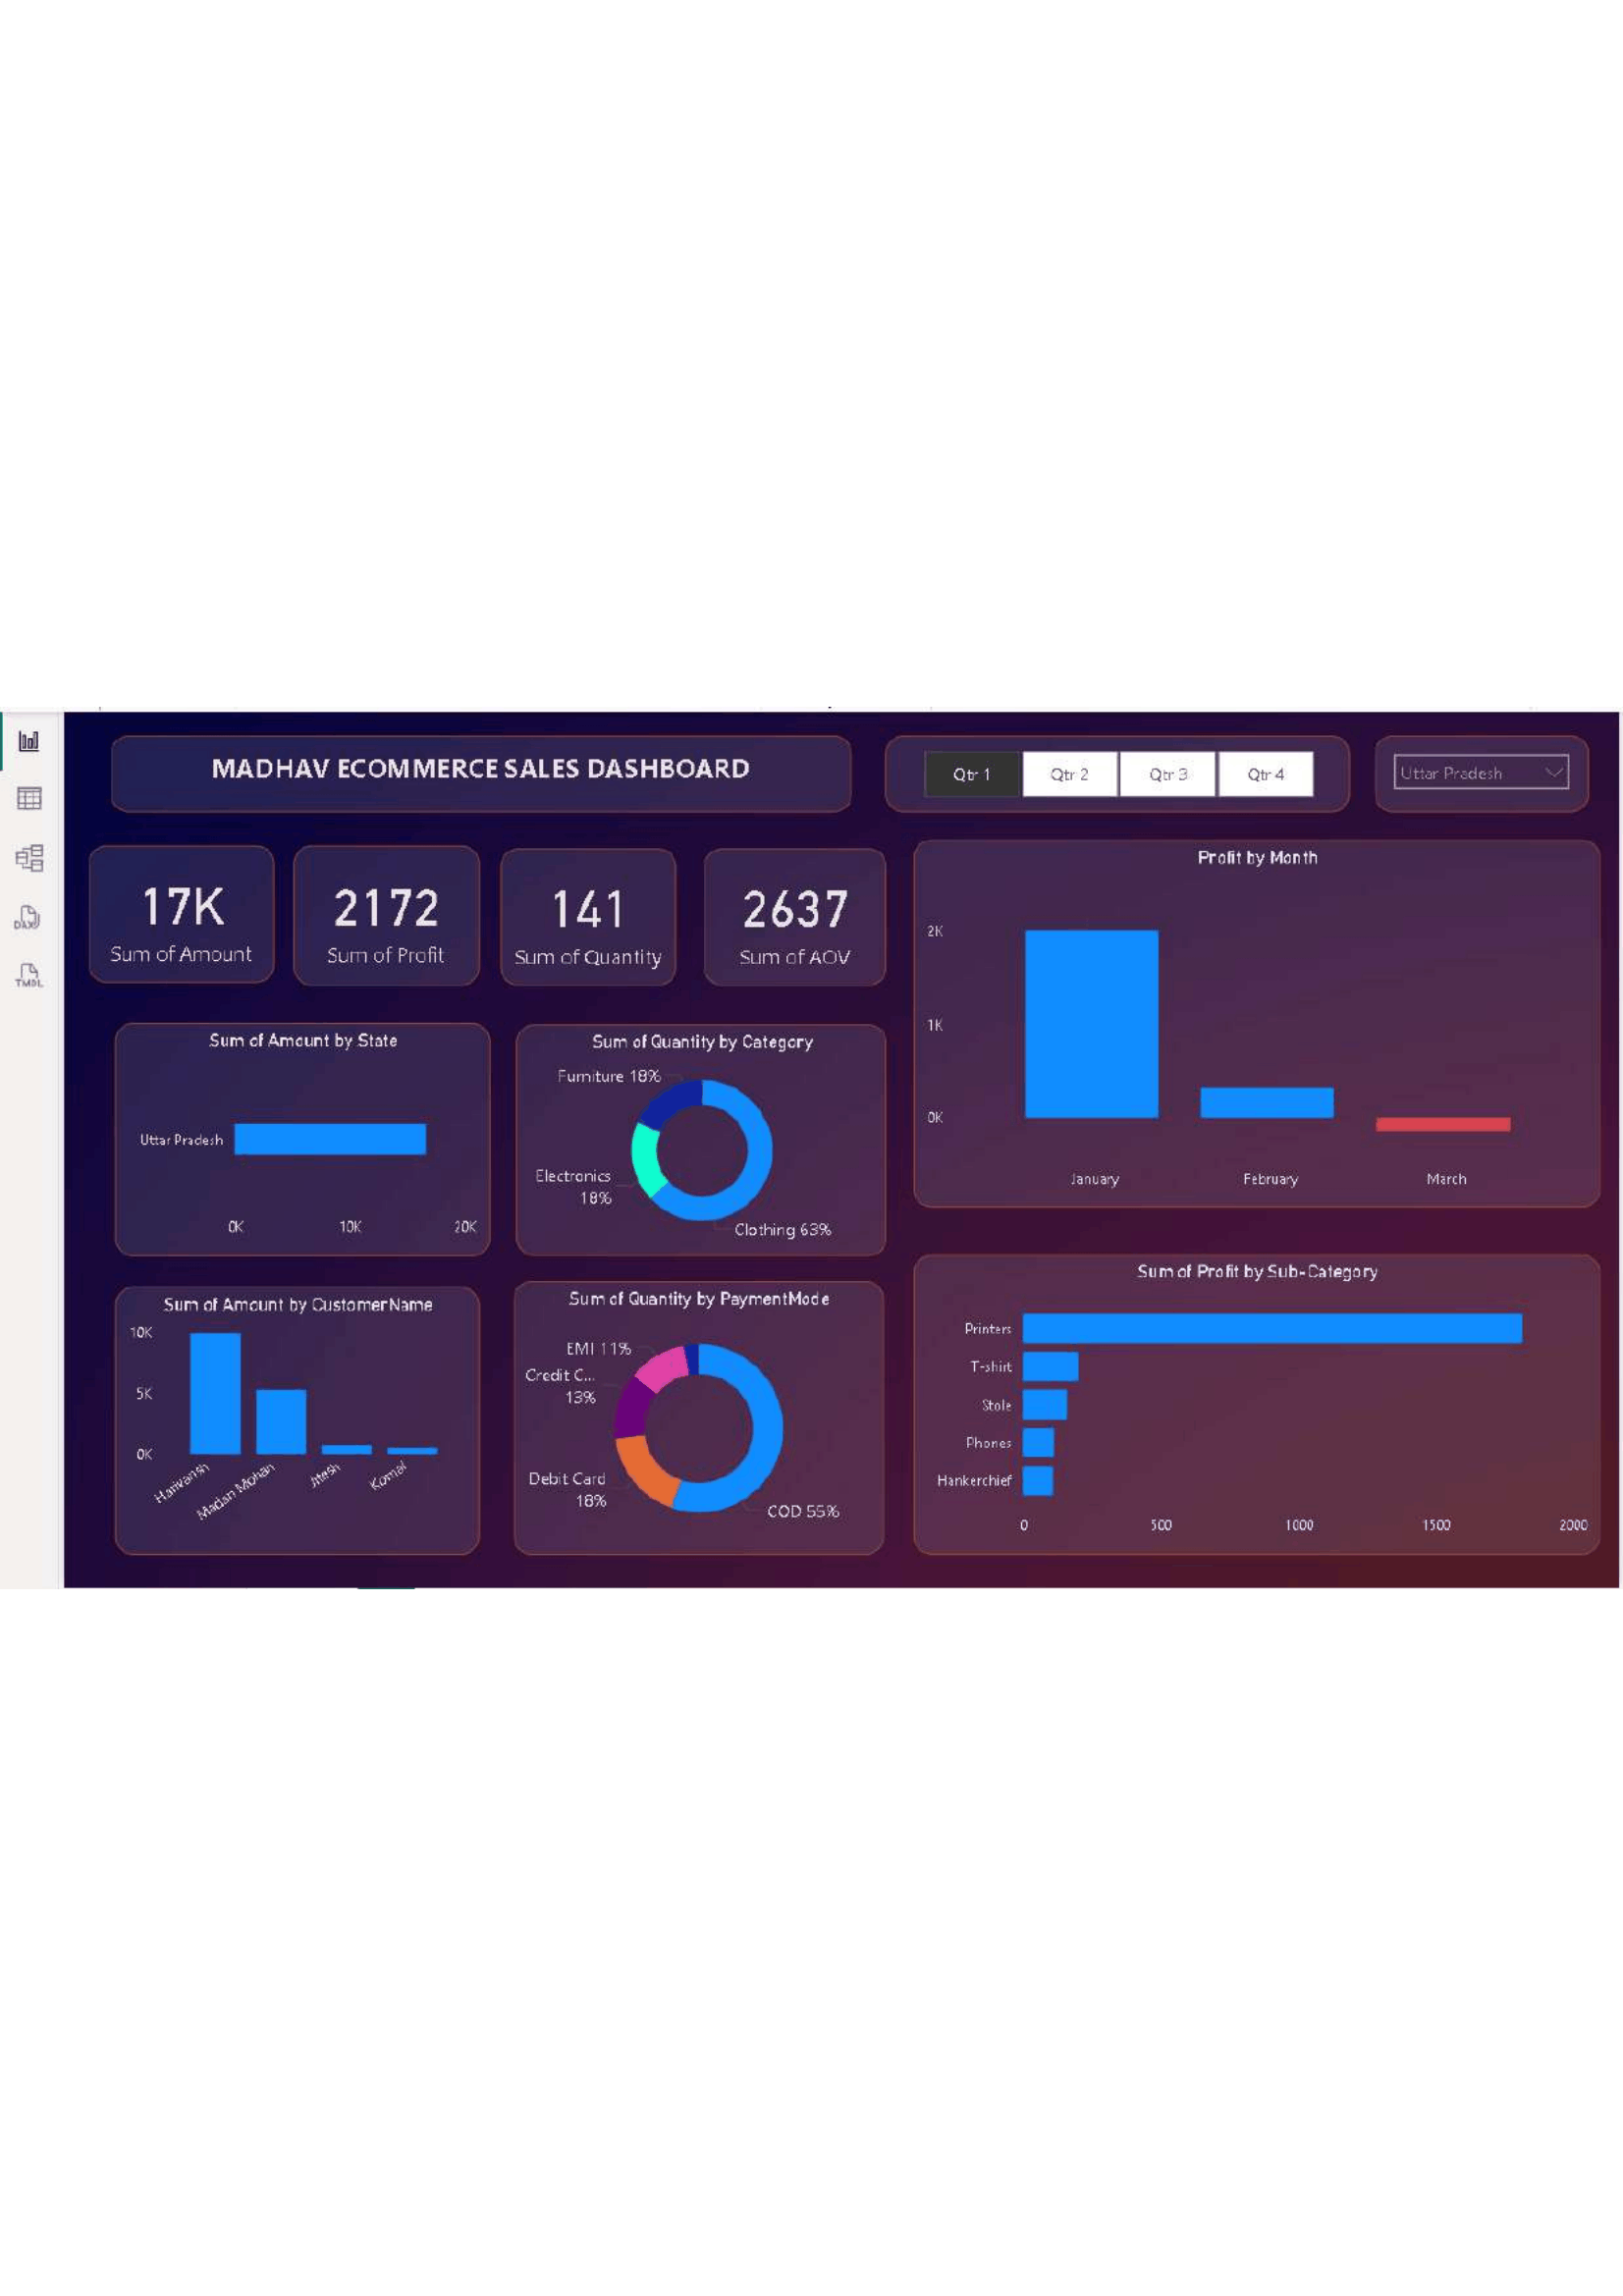

The page's visual inventory and layout, read from the dashboard file:
{"tool":"powerbi","page":{"name":"Page 1","canvas":[1280,720],"ordinal":0},"visuals":[{"type":"columnChart","title":"Profit by Month","fields":{"Category":["Orders.Order Date.Variation.Date Hierarchy.Month"],"Y":["Sum(Details.Profit)"]},"box":[699.5,105,566,302.6],"z":0},{"type":"barChart","fields":{"Category":["Details.Sub-Category"],"Y":["Sum(Details.Profit)"]},"box":[699.7,446.4,565.8,246.1],"z":1000},{"type":"donutChart","fields":{"Category":["Details.Category"],"Y":["Sum(Details.Quantity)"]},"box":[372.5,257.5,305,190],"z":2000},{"type":"donutChart","fields":{"Y":["Sum(Details.Quantity)"],"Category":["Details.PaymentMode"]},"box":[370,467.5,305,225],"z":3000},{"type":"card","fields":{"Values":["Sum(Details.Amount)"]},"box":[20,110,152.5,112.5],"z":4000},{"type":"card","fields":{"Values":["Sum(Details.Profit)"]},"box":[190,110,152.5,115],"z":5000},{"type":"card","fields":{"Values":["Sum(Details.Quantity)"]},"box":[360,112.5,145,112.5],"z":6000},{"type":"card","fields":{"Values":["Sum(Details.AOV)"]},"box":[527.5,112.5,150,112.5],"z":7000},{"type":"barChart","fields":{"Category":["Orders.State"],"Y":["Sum(Details.Amount)"]},"box":[41.8,255.4,308.8,191.9],"z":8000},{"type":"columnChart","fields":{"Category":["Orders.CustomerName"],"Y":["Sum(Details.Amount)"]},"box":[42.5,472.5,300,220],"z":9000},{"type":"textbox","box":[39,18.8,610.3,63.5],"z":10000},{"type":"slicer","fields":{"Values":["Orders.Order Date.Variation.Date Hierarchy.Quarter"]},"box":[676.7,18.8,382.3,63.5],"z":11000},{"type":"slicer","fields":{"Values":["Orders.State"]},"box":[1079.2,18.8,176,63.5],"z":12000}]}

Visuals, with their boxes in screenshot pixels (x1, y1, x2, y2):
"Profit by Month" columnChart: <bbox>911, 818, 1622, 1209</bbox>
barChart - Details.Sub-Category x Sum(Details.Profit): <bbox>912, 1259, 1622, 1577</bbox>
donutChart - Details.Category x Sum(Details.Quantity): <bbox>488, 1015, 883, 1260</bbox>
donutChart - Sum(Details.Quantity) x Details.PaymentMode: <bbox>485, 1287, 880, 1577</bbox>
card - Sum(Details.Amount): <bbox>31, 824, 230, 970</bbox>
card - Sum(Details.Profit): <bbox>252, 824, 450, 973</bbox>
card - Sum(Details.Quantity): <bbox>472, 828, 660, 973</bbox>
card - Sum(Details.AOV): <bbox>689, 828, 883, 973</bbox>
barChart - Orders.State x Sum(Details.Amount): <bbox>60, 1012, 460, 1260</bbox>
columnChart - Orders.CustomerName x Sum(Details.Amount): <bbox>61, 1293, 450, 1577</bbox>
textbox: <bbox>57, 706, 846, 788</bbox>
slicer - Orders.Order Date.Variation.Date Hierarchy.Quarter: <bbox>882, 706, 1377, 788</bbox>
slicer - Orders.State: <bbox>1403, 706, 1622, 788</bbox>
